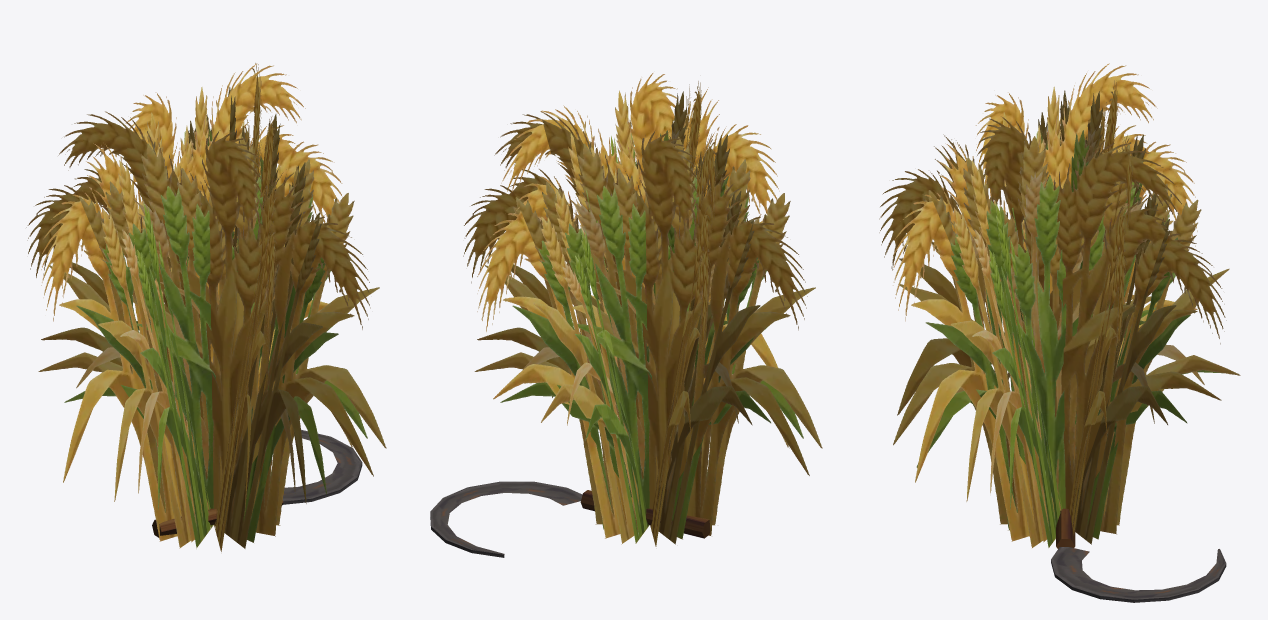
Rendered from trigo.glb.
3 renders of one model, left to right at view 1: azimuth 30°, elevation 25°; view 2: azimuth 150°, elevation 25°; view 3: azimuth 270°, elevation 25°, orthographic.
Parts seen in each view (by area): view 1: Trigo_Cheio, Trigo_Maduro, Trigo_Verde, Trigo_Ralo, Foice; view 2: Trigo_Cheio, Trigo_Maduro, Trigo_Verde, Trigo_Ralo, Foice; view 3: Trigo_Cheio, Trigo_Maduro, Trigo_Verde, Trigo_Ralo, Foice.
Part boxes in pixels (x1=…): Trigo_Cheio: x1=26, y1=63, x2=373, y2=551; Trigo_Maduro: x1=38, y1=87, x2=386, y2=548; Trigo_Verde: x1=64, y1=128, x2=367, y2=548; Trigo_Ralo: x1=76, y1=146, x2=353, y2=542; Foice: x1=152, y1=429, x2=362, y2=537; Trigo_Cheio: x1=463, y1=73, x2=809, y2=546; Trigo_Maduro: x1=474, y1=90, x2=822, y2=544; Trigo_Verde: x1=500, y1=130, x2=803, y2=543; Trigo_Ralo: x1=523, y1=127, x2=789, y2=517; Foice: x1=430, y1=481, x2=710, y2=557; Trigo_Cheio: x1=879, y1=63, x2=1226, y2=541; Trigo_Maduro: x1=893, y1=86, x2=1240, y2=547; Trigo_Verde: x1=916, y1=130, x2=1222, y2=547; Trigo_Ralo: x1=950, y1=127, x2=1204, y2=542; Foice: x1=1051, y1=508, x2=1226, y2=602.
Size of the model in its own units: 0.906 by 1.07 by 0.8828.
2 materials, 2 textured.
